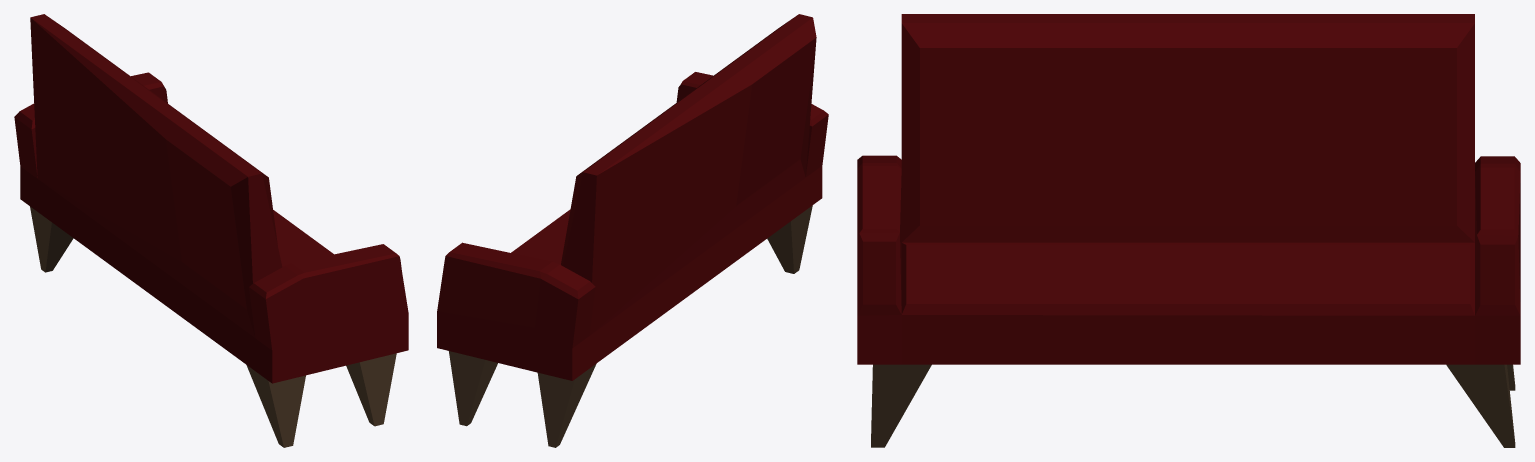
File: ComfyCouch.glb
The picture shows the model from 3 angles, left to right: view 1: azimuth 30°, elevation 25°; view 2: azimuth 150°, elevation 25°; view 3: azimuth 270°, elevation 25°; orthographic projection. The views are drawn at different scales.
Parts seen in each view (by area): view 1: Cube, Cube.001, Cube.002, Cube.004; view 2: Cube, Cube.004, Cube.003, Cube.001; view 3: Cube, Cube.002, Cube.003.
Part boxes in pixels (x1,y1,x2,y2): Cube: (14, 14, 408, 383); Cube.001: (246, 365, 305, 447); Cube.002: (346, 353, 396, 426); Cube.004: (30, 206, 73, 272); Cube: (437, 14, 828, 380); Cube.004: (537, 363, 596, 447); Cube.003: (449, 351, 497, 426); Cube.001: (767, 205, 812, 273); Cube: (857, 14, 1520, 364); Cube.002: (871, 364, 931, 447); Cube.003: (1446, 364, 1515, 447).
Bounding box in the file's own units: 2.26 × 3.78 × 6.4.
